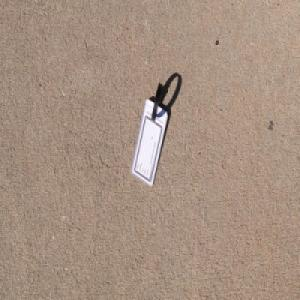LuggageTag: (130, 80, 168, 188)
